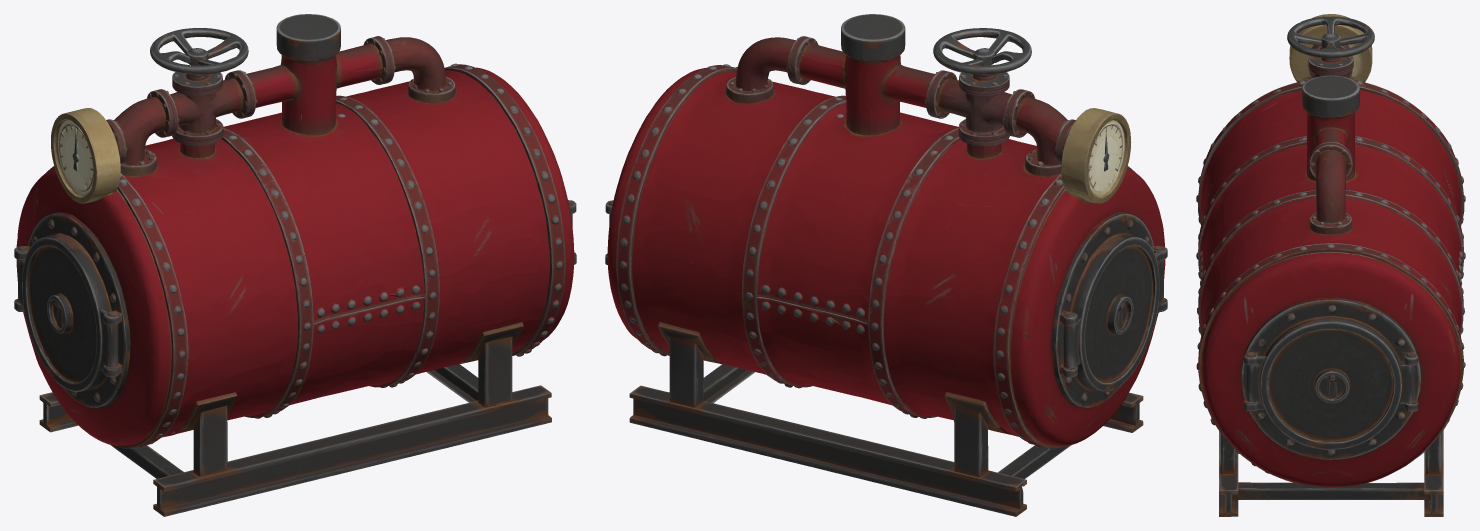
Rendered from caldaia.glb.
3 renders of one model, left to right at view 1: azimuth 30°, elevation 25°; view 2: azimuth 150°, elevation 25°; view 3: azimuth 270°, elevation 25°, orthographic. The views are drawn at different scales.
Parts seen in each view (by area): view 1: Mesh_0; view 2: Mesh_0; view 3: Mesh_0.
Boxes of the visible parts, box(x1,y1,x2,y2) form: Mesh_0: box(14, 14, 576, 516); Mesh_0: box(605, 14, 1167, 516); Mesh_0: box(1196, 14, 1465, 516).
Size of the model in its own units: 1.9 by 1.52 by 1.04.
1 material, 1 textured.
